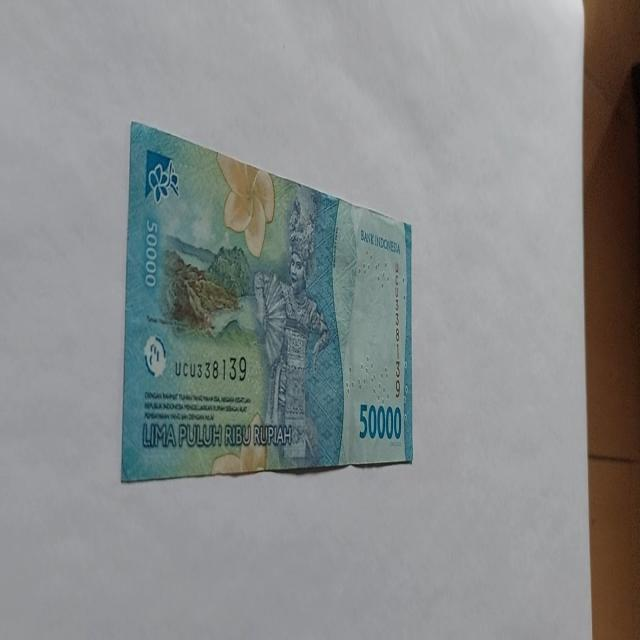lima puluh ribu rupiah: (120, 119, 414, 483)
